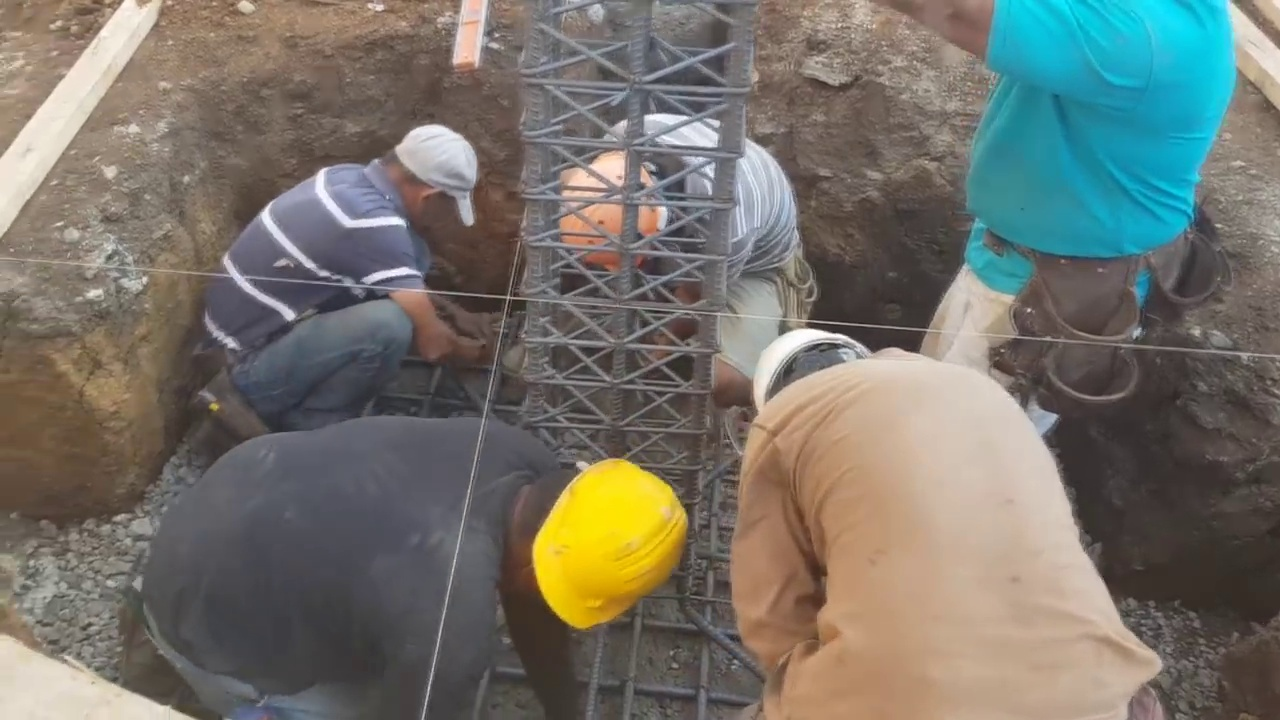helmet: (523, 455, 696, 620), (550, 150, 664, 265)
helmet-off: (386, 121, 484, 241)
helmet-on: (492, 447, 698, 632), (549, 130, 700, 269), (758, 337, 872, 422)
person: (48, 412, 703, 720), (722, 330, 1168, 720), (870, 0, 1236, 441), (191, 109, 488, 431), (535, 118, 816, 398)
